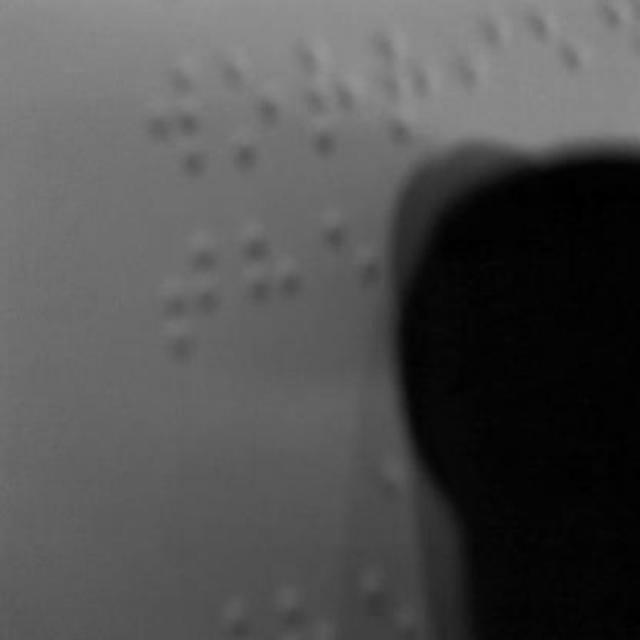braiile: (212, 40, 284, 184), (316, 204, 388, 346), (369, 23, 441, 155), (237, 217, 303, 361), (160, 231, 224, 377), (296, 39, 362, 177), (142, 55, 208, 188), (524, 1, 588, 137), (452, 8, 516, 134)
